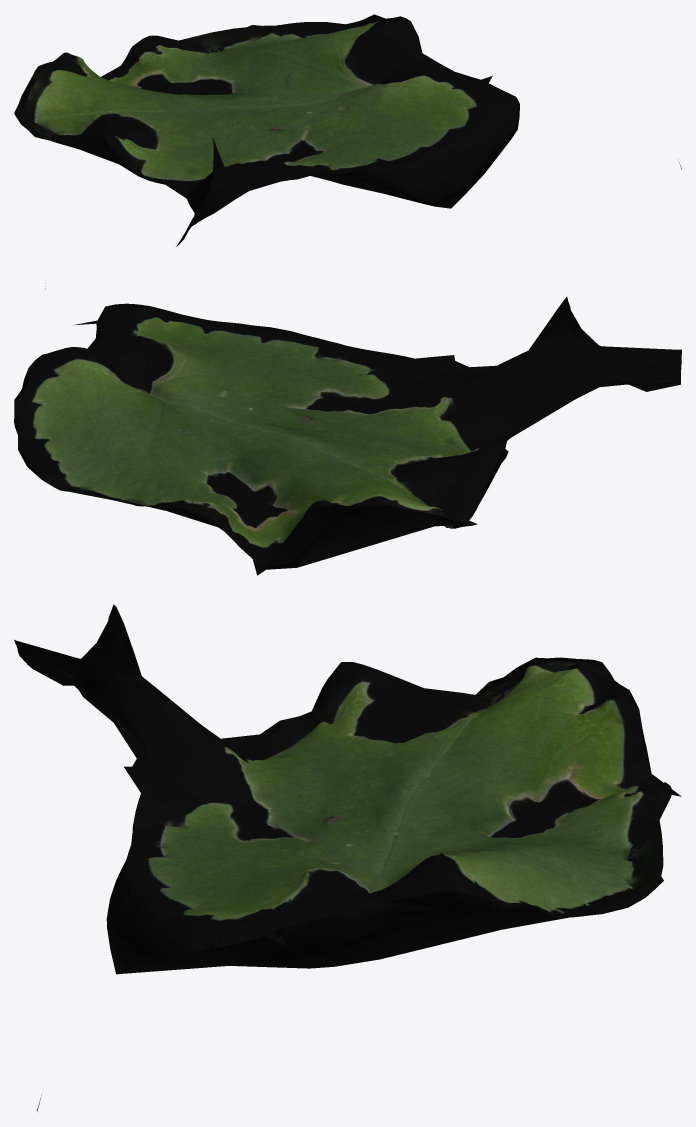
Rendered from leaf-06.glb.
3 views of the same model, one above another, from view 1: azimuth 30°, elevation 25°; view 2: azimuth 150°, elevation 25°; view 3: azimuth 270°, elevation 25° (orthographic). The views are drawn at different scales.
Parts seen in each view (by area): view 1: Mesh; view 2: Mesh; view 3: Mesh.
Part boxes in pixels (x1,y1,x2,y2): Mesh: [14, 14, 681, 246]; Mesh: [14, 289, 681, 575]; Mesh: [14, 604, 681, 1111].
Size of the model in its own units: 0.1608 by 0.0393 by 0.1219.
1 material, 1 textured.
